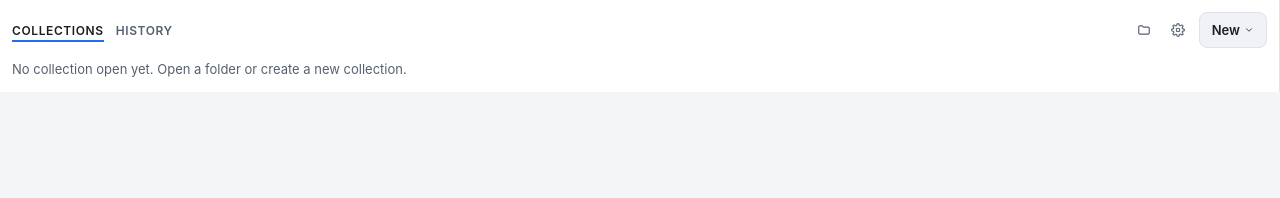
it: HistoryList › explains an empty history and shows errors
The image size is (1280, 198).
Click the tab "History".
click(144, 30)  # box [116, 18, 173, 42]
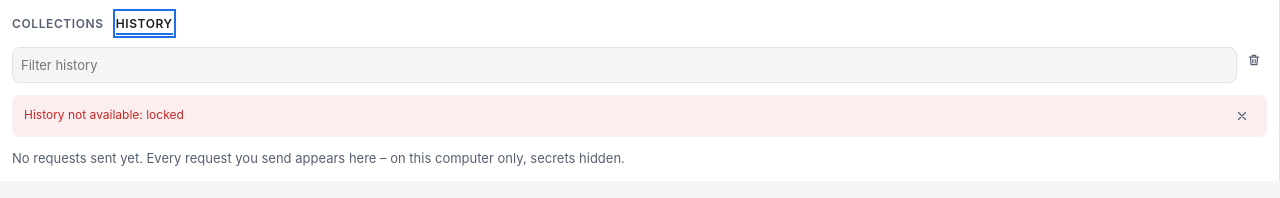
Expected: the message shows "locked", [24, 107, 184, 122]
Expected: the text "No requests sent yet" is shown, [12, 150, 625, 166]
Click the button named "Close message".
click(1242, 116)  # box [1229, 103, 1255, 129]
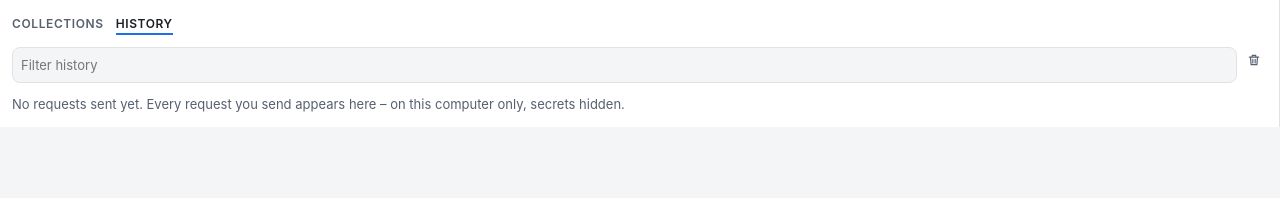
Expected: the message "History not available: locked" is gone
